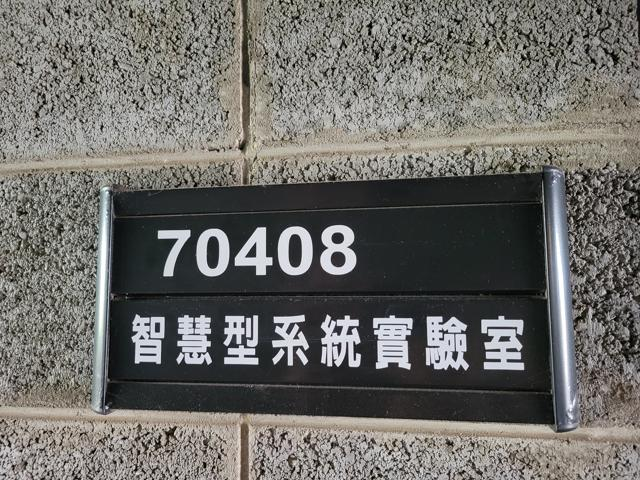doorplate: (88, 156, 587, 434)
